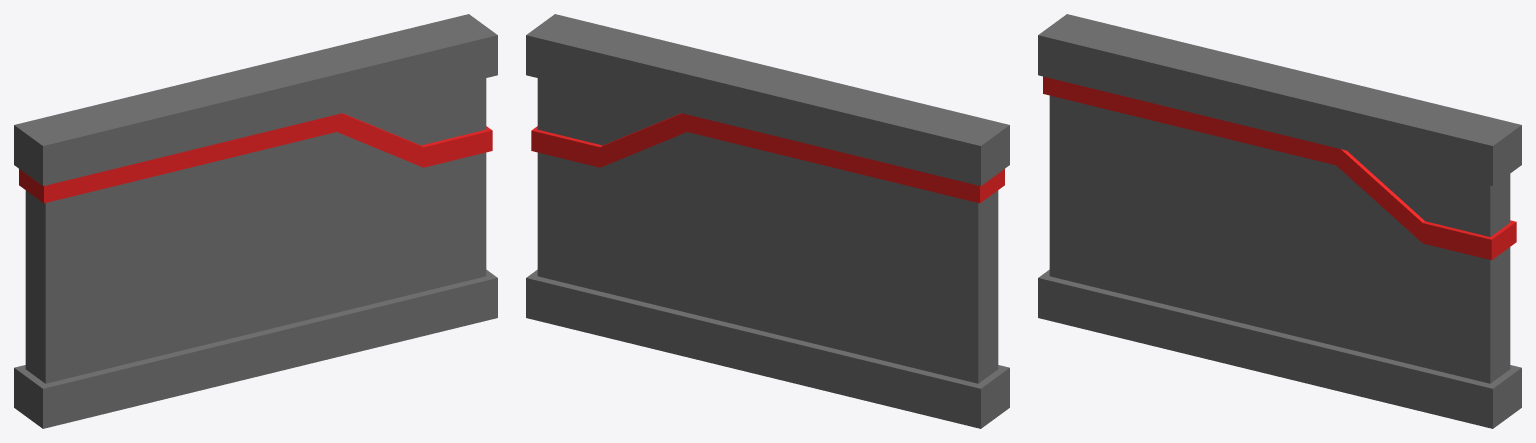
The model's file is redkeycard.fbx.
3 renders of one model, left to right at view 1: azimuth 30°, elevation 25°; view 2: azimuth 150°, elevation 25°; view 3: azimuth 330°, elevation 25°, orthographic.
Parts seen in each view (by area): view 1: keycardred1; view 2: keycardred1; view 3: keycardred1.
Boxes of the visible parts, bbox=[...] form: keycardred1: bbox=[14, 14, 497, 428]; keycardred1: bbox=[526, 14, 1009, 428]; keycardred1: bbox=[1038, 14, 1521, 428].
Bounding box in the file's own units: 0.2247 × 0.1335 × 0.0248.
